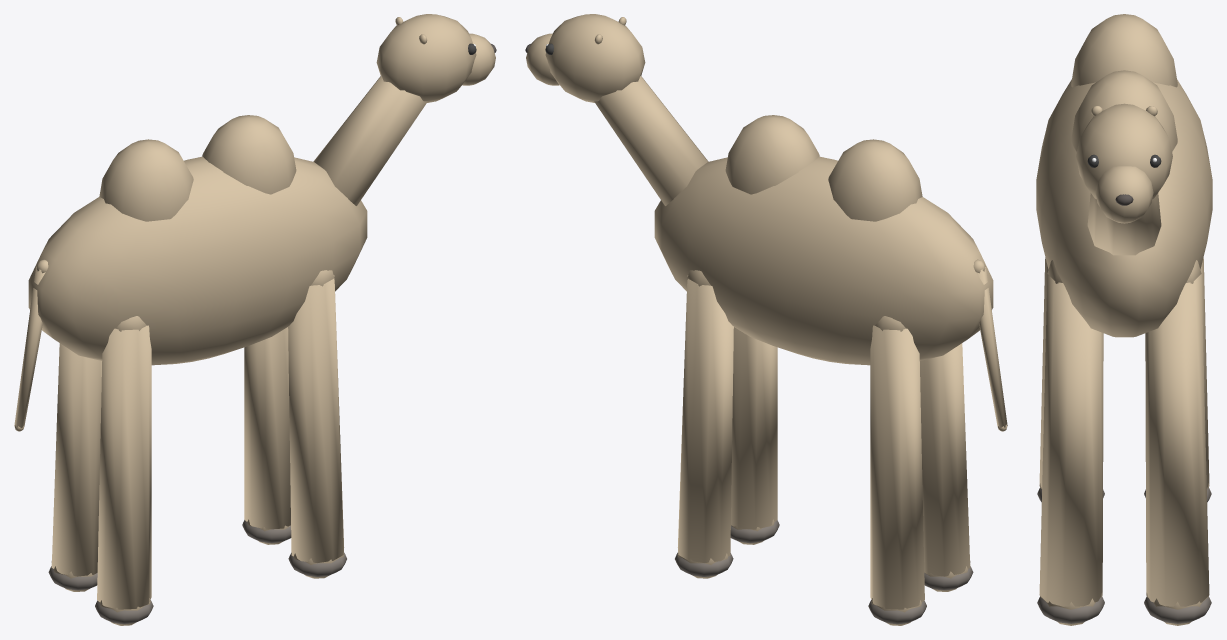
The model's file is bactrian-camel.glb.
3 views of the same model, side by side, from view 1: azimuth 30°, elevation 25°; view 2: azimuth 150°, elevation 25°; view 3: azimuth 270°, elevation 25° (orthographic). The views are drawn at different scales.
Parts seen in each view (by area): view 1: e, e.017, e.026; view 2: e, e.017, e.026; view 3: e, e.017.
Part boxes in pixels (x1,y1,x2,y2): e: (28, 76, 427, 625); e.017: (376, 14, 496, 102); e.026: (14, 259, 48, 431); e: (594, 76, 993, 625); e.017: (525, 14, 645, 102); e.026: (973, 259, 1007, 431); e: (1036, 14, 1212, 625); e.017: (1076, 103, 1172, 223).
Bounding box in the file's own units: 1.58 × 1.6 × 0.4355.
